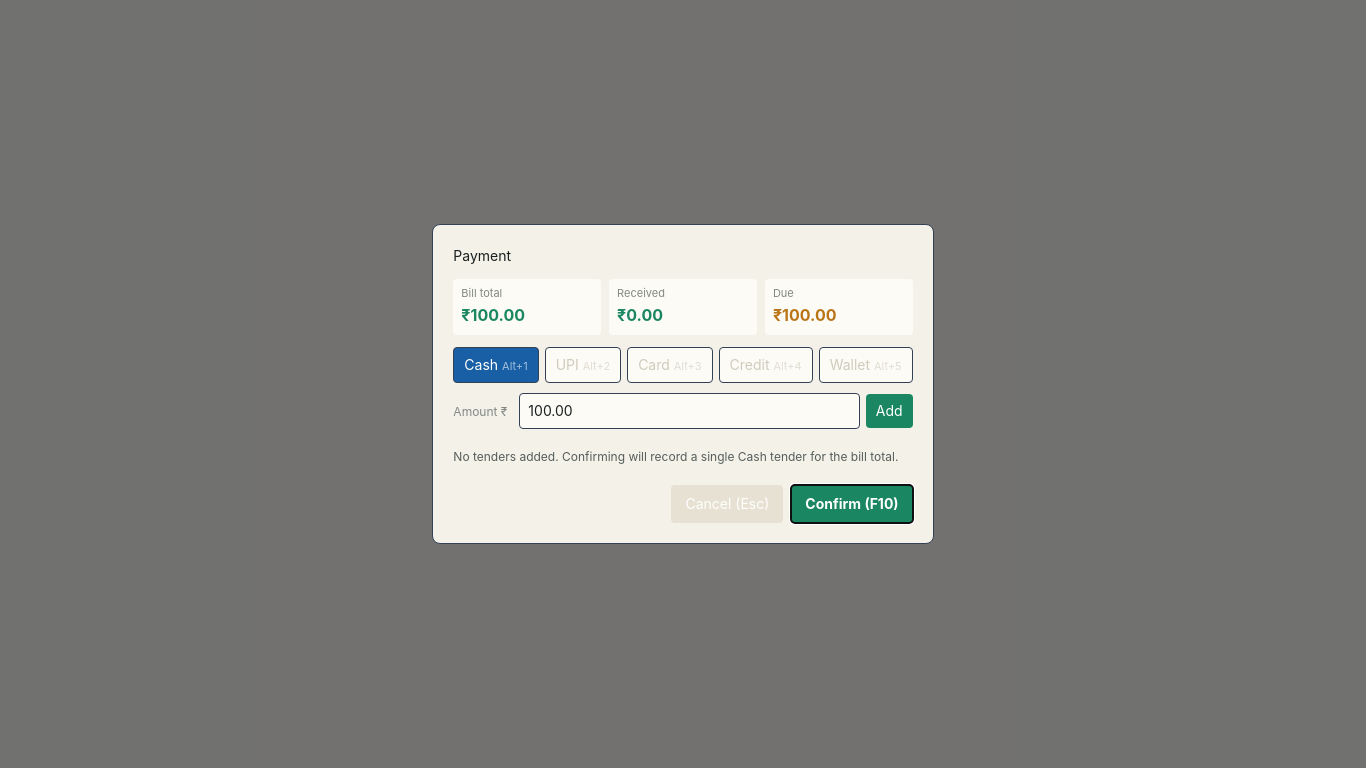
Test: PaymentModal · split-tender flow › shows change when last tender exceeds the remaining
Replace the text in the field with test id "tender-amount" with "120" at point(690, 411), box [519,393,860,429]
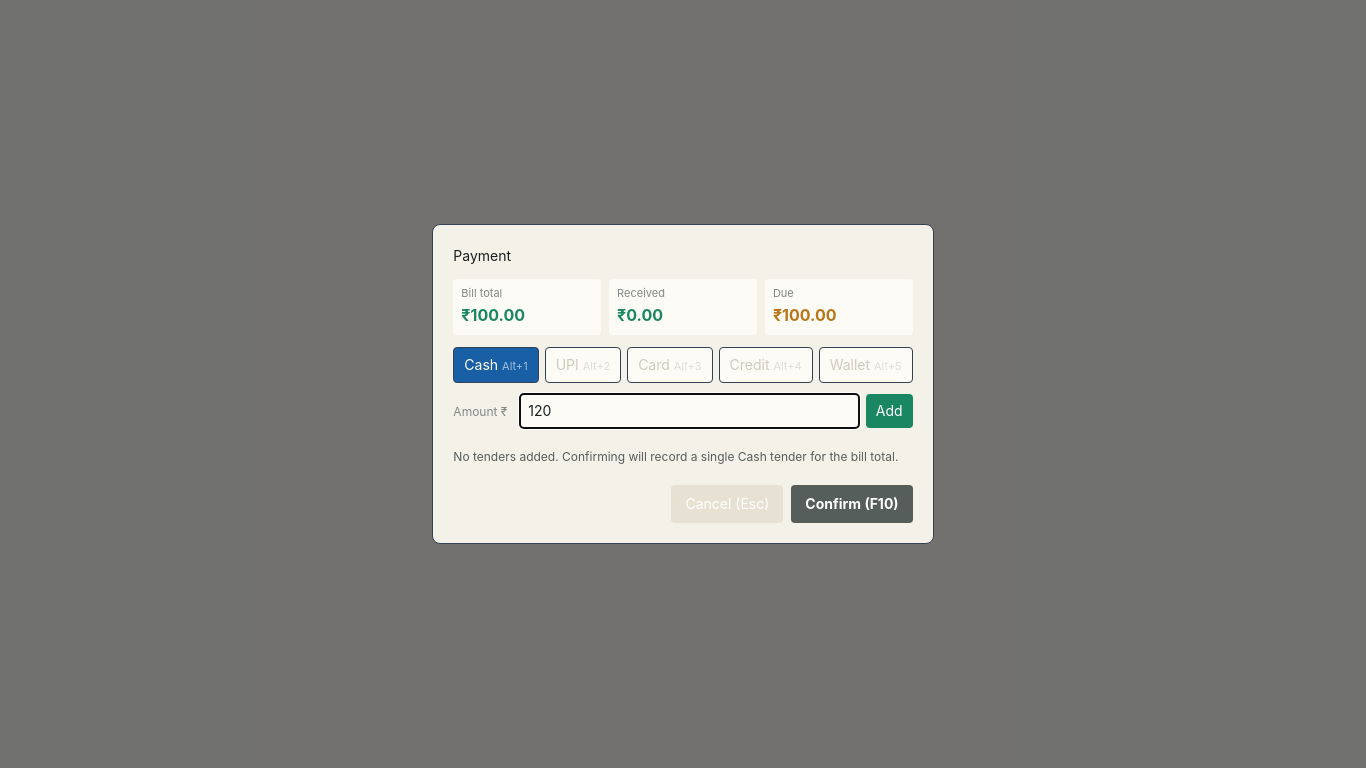
Click the button with test id "tender-add".
click(889, 411)  # box [866,394,913,428]
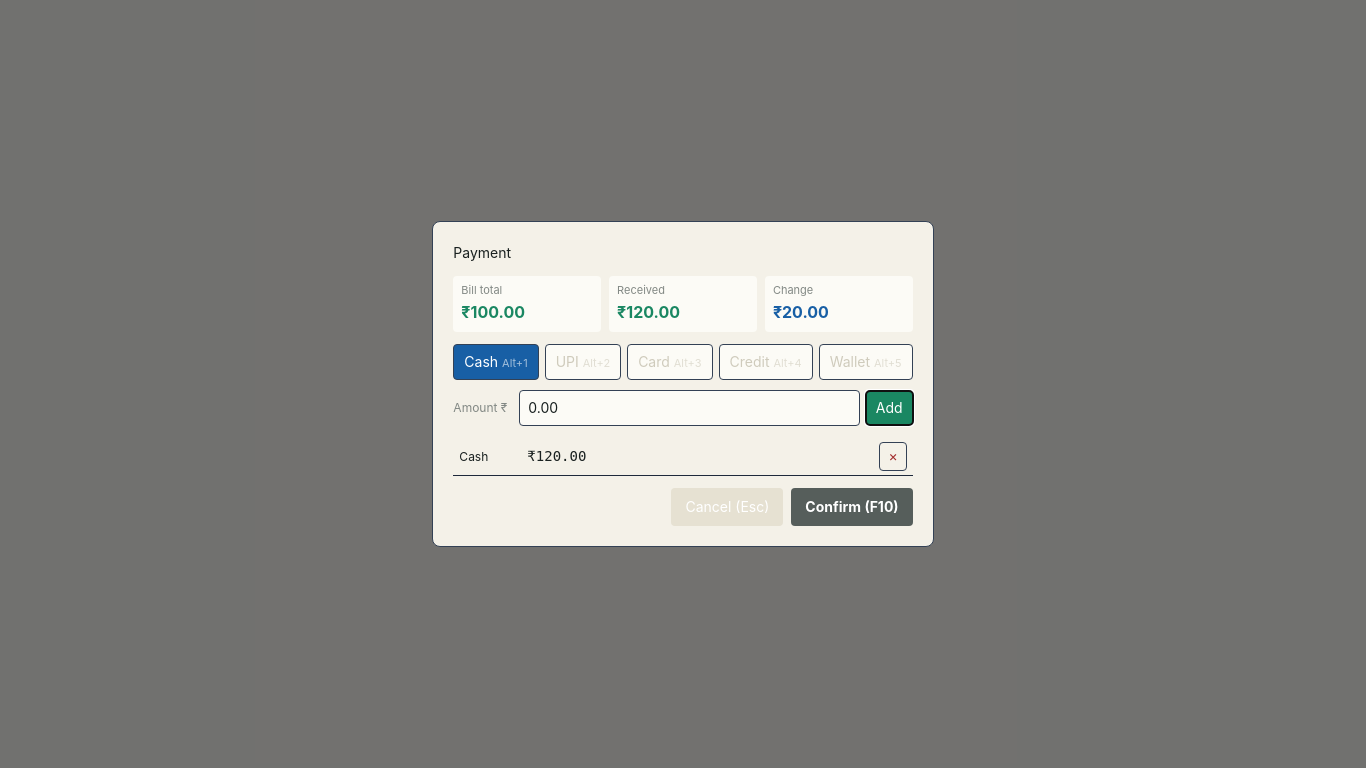
Expected: the text "₹20.00" is shown, [773,302,829,322]
